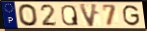2: (40, 4, 58, 27)
7: (102, 4, 120, 27)
G: (122, 4, 141, 27)
O: (17, 3, 40, 28)
Q: (60, 4, 80, 27)
V: (78, 3, 100, 28)
